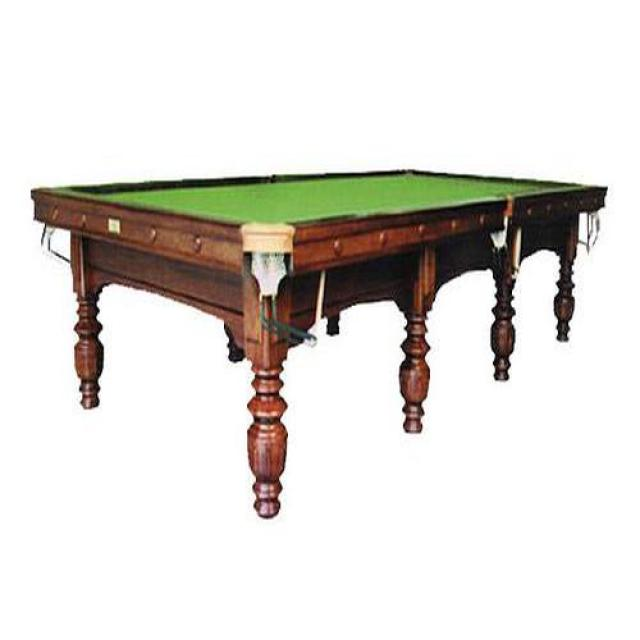table: (36, 170, 607, 520)
